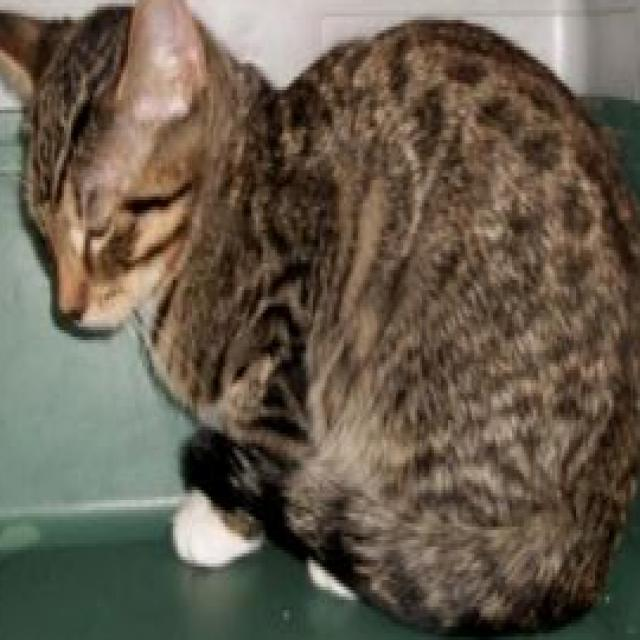Bengal: (0, 0, 640, 637)
